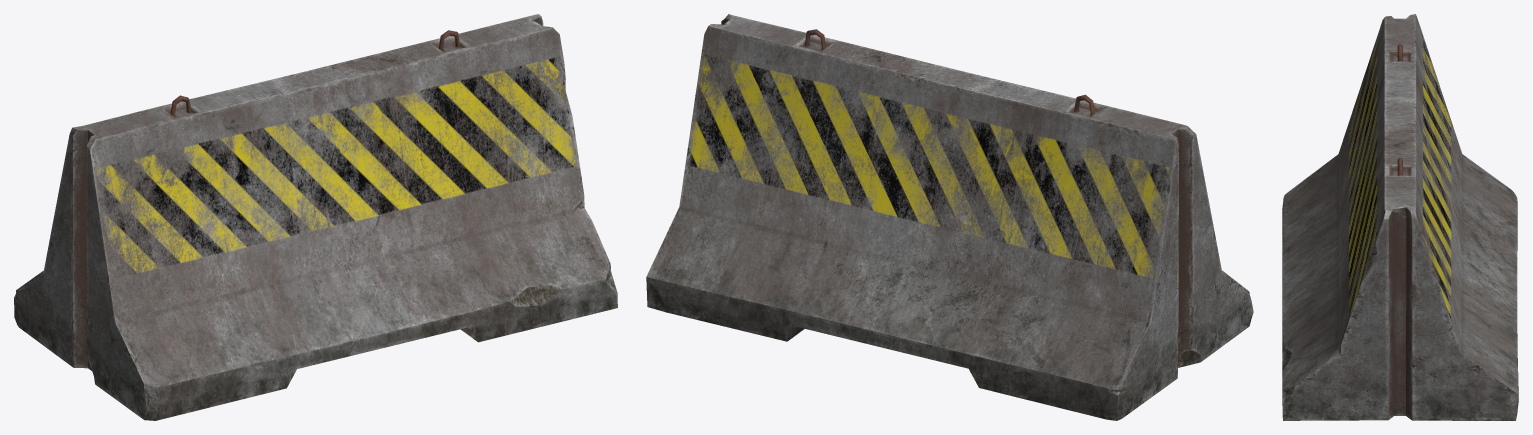
File: fence2.obj
The picture shows the model from 3 angles, left to right: view 1: azimuth 30°, elevation 25°; view 2: azimuth 150°, elevation 25°; view 3: azimuth 270°, elevation 25°; orthographic projection. The views are drawn at different scales.
Parts seen in each view (by area): view 1: LP1; view 2: LP1; view 3: LP1.
Boxes of the visible parts, <box> form: LP1: <box>14,14,617,420</box>; LP1: <box>646,14,1253,420</box>; LP1: <box>1282,14,1518,420</box>.
Size of the model in its own units: 1.5 by 0.7695 by 0.75.
Materials: 1 (1 with a texture image).
